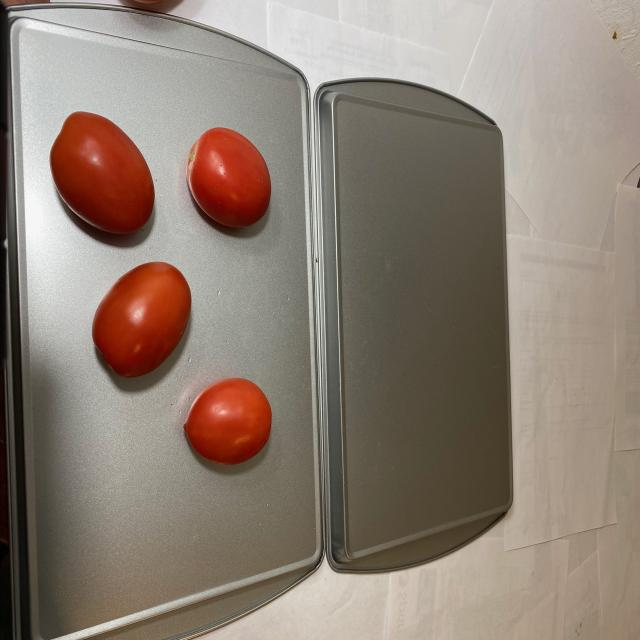tomato: (49, 106, 274, 467)
